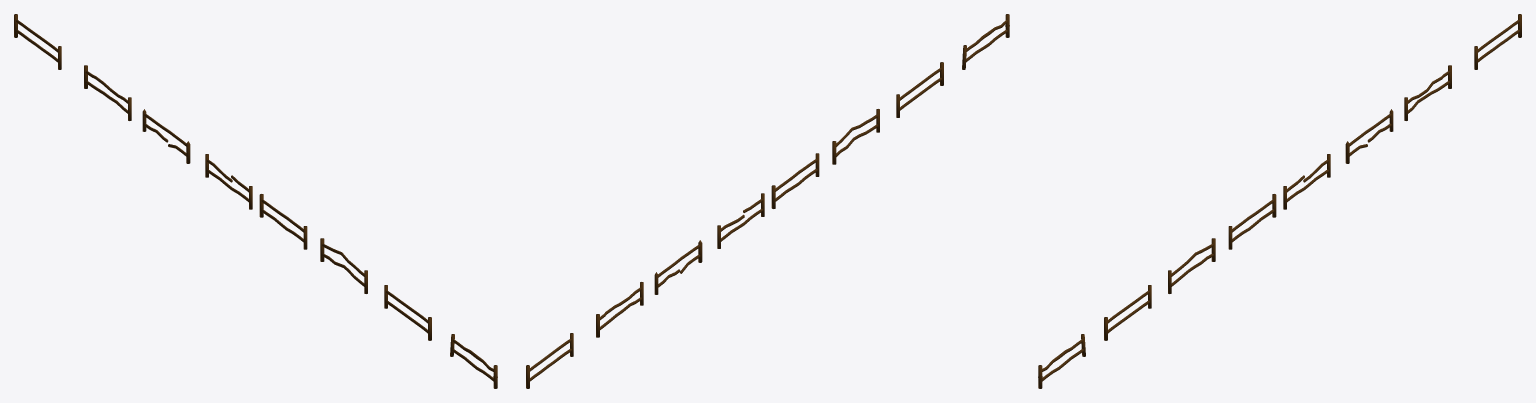
File: Fences_2final_.fbx
3 renders of one model, left to right at view 1: azimuth 30°, elevation 25°; view 2: azimuth 150°, elevation 25°; view 3: azimuth 330°, elevation 25°, orthographic.
Size of the model in its own units: 33.73 by 180 by 6977.
